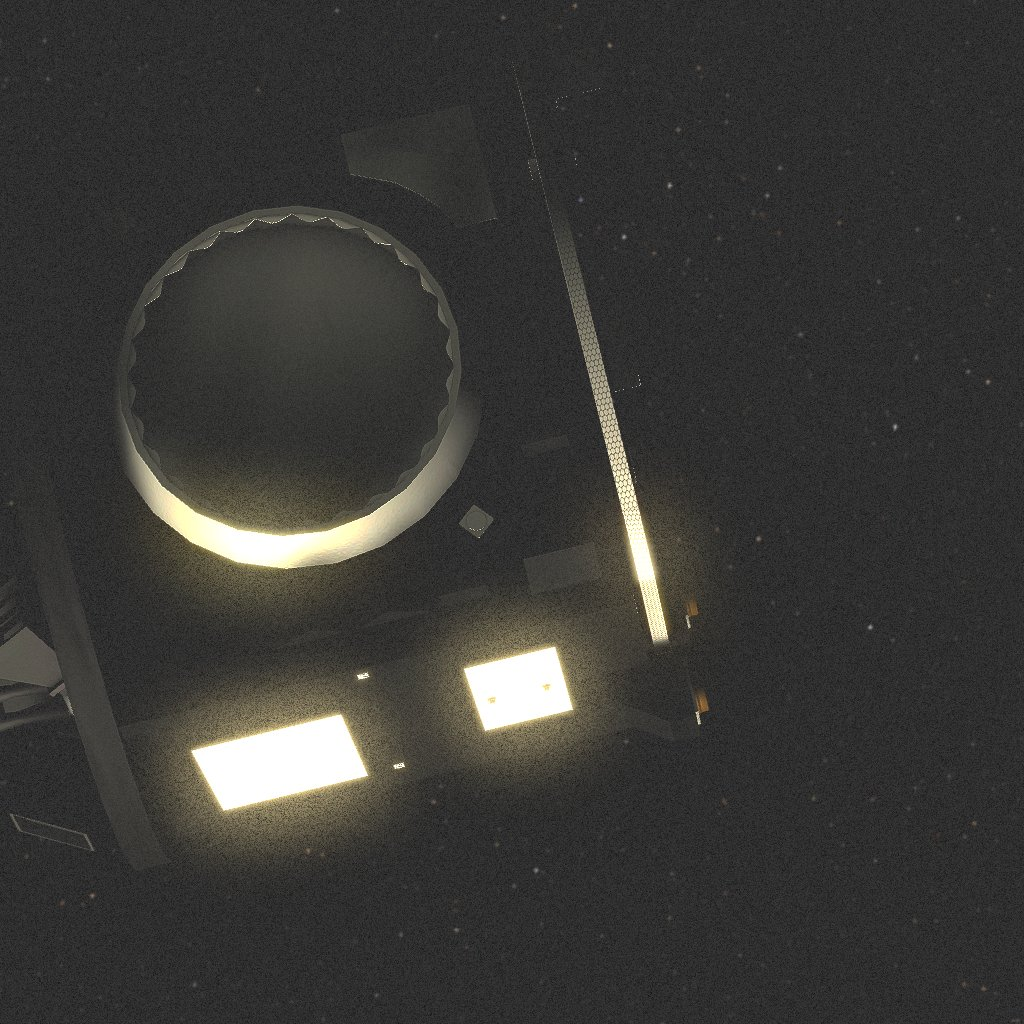proba_3_ocs: (0, 34, 709, 871)
